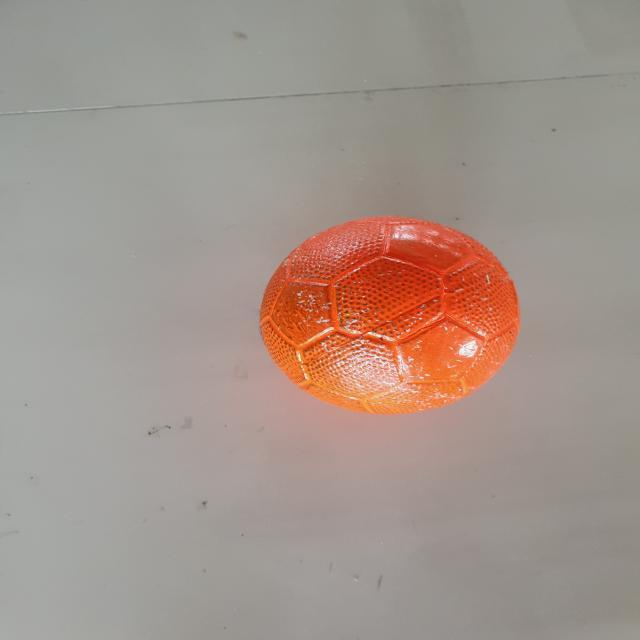bola: (250, 211, 525, 422)
